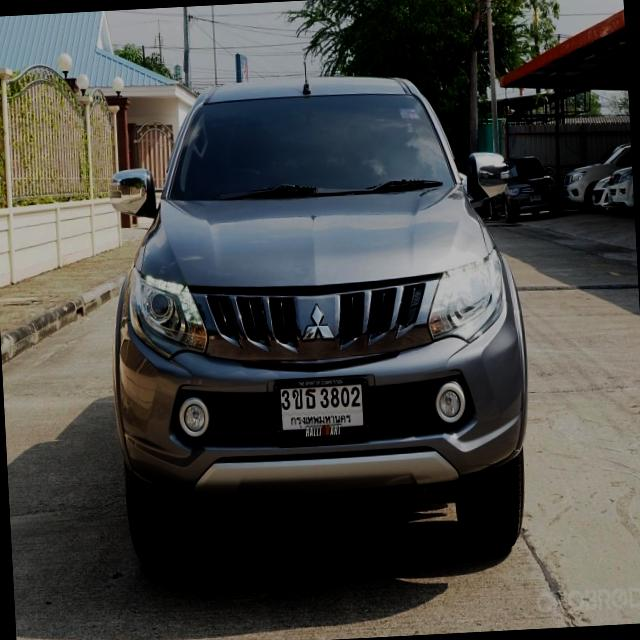license_plate: (276, 373, 369, 440)
